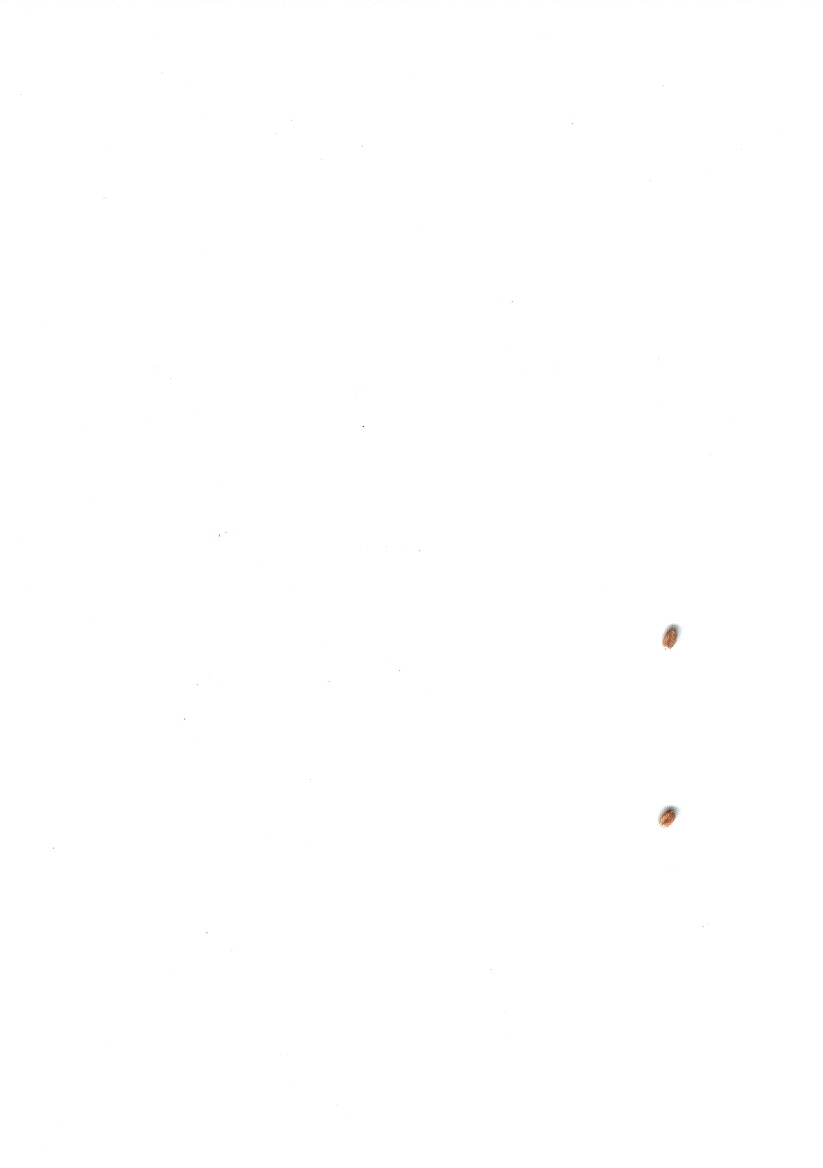grains: (647, 615, 696, 659), (647, 799, 685, 841)
